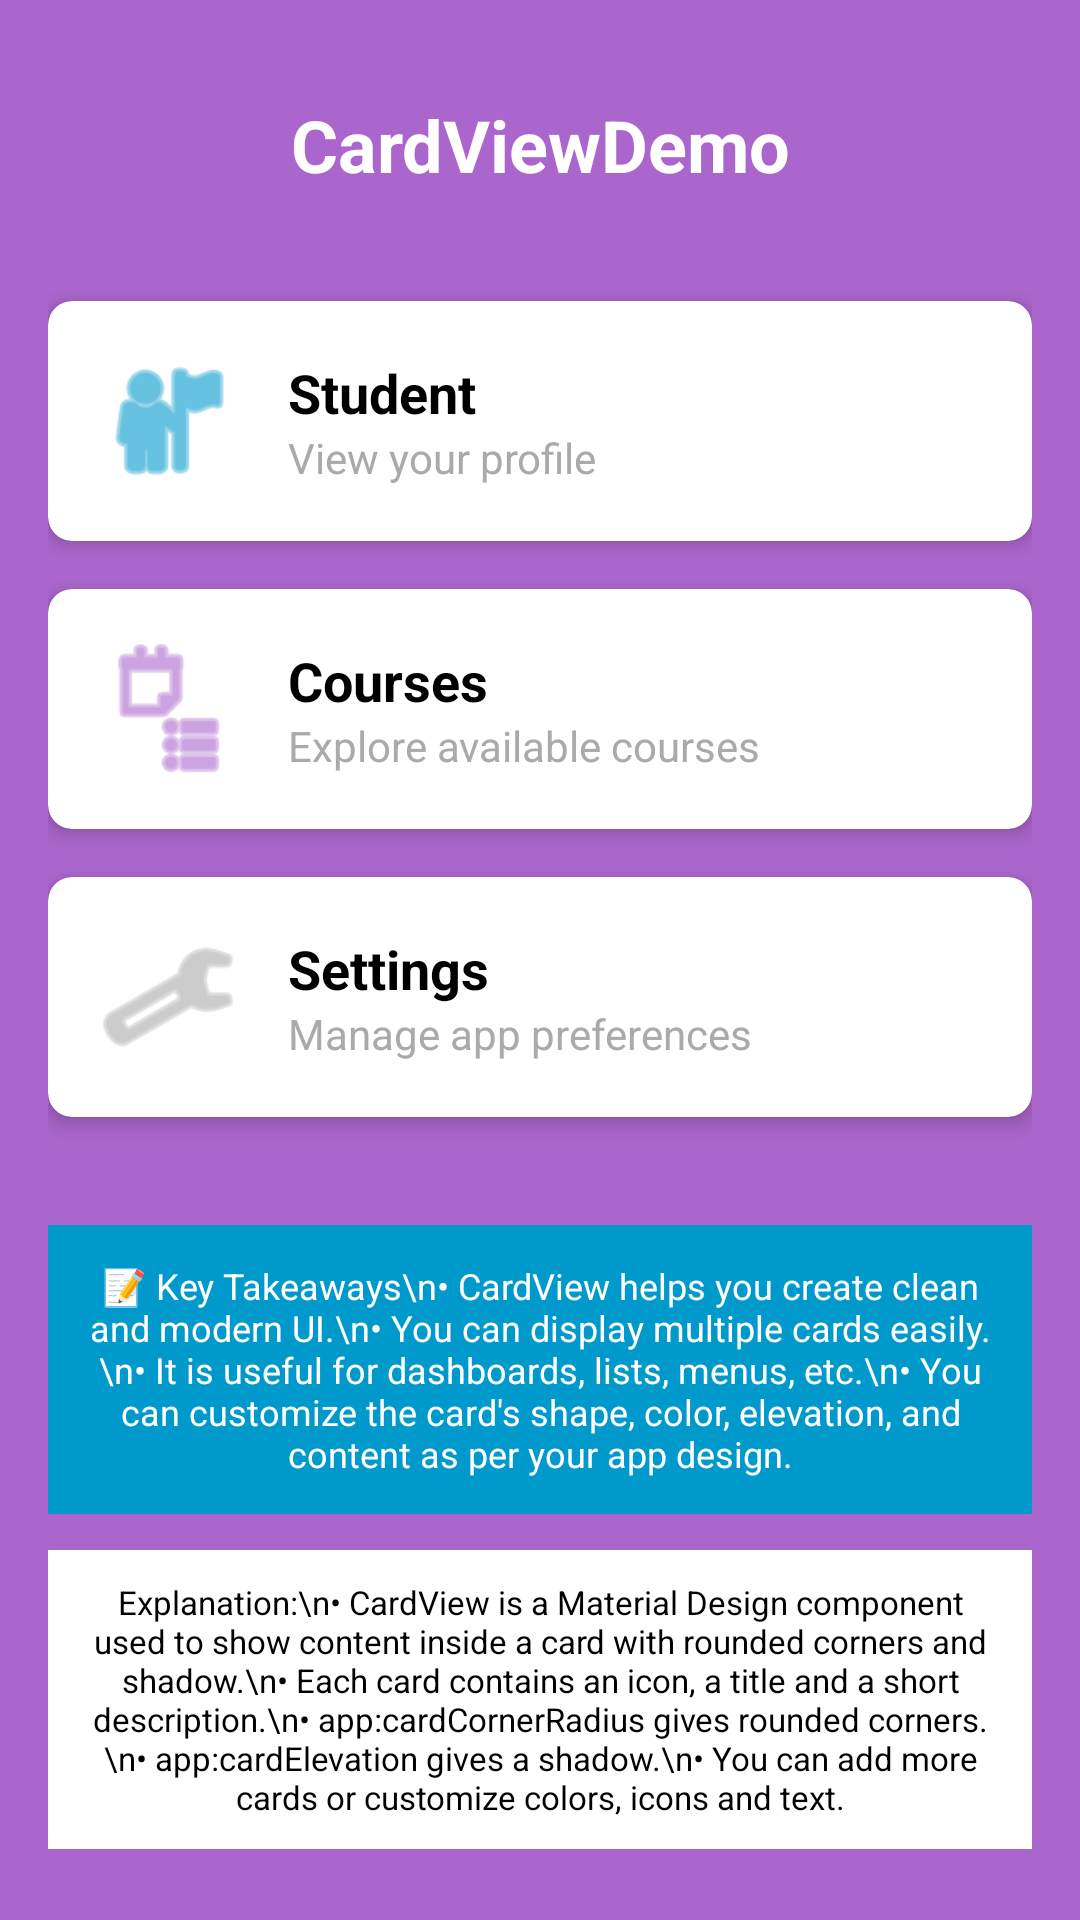

Icon bounding boxes for this 1080×1920 phone screenshot, format BBox(x1, y1, x2, y2):
agenda: BBox(118, 644, 219, 772)
myplaces: BBox(115, 367, 224, 475)
